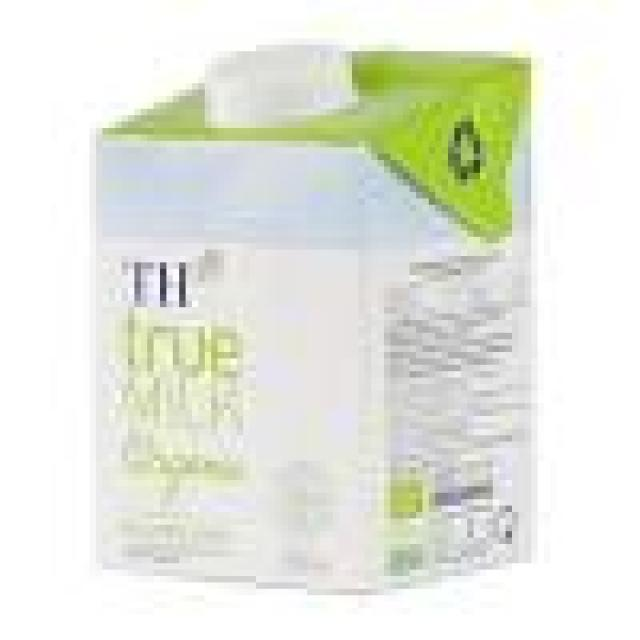non_white_jug: (83, 19, 550, 595)
